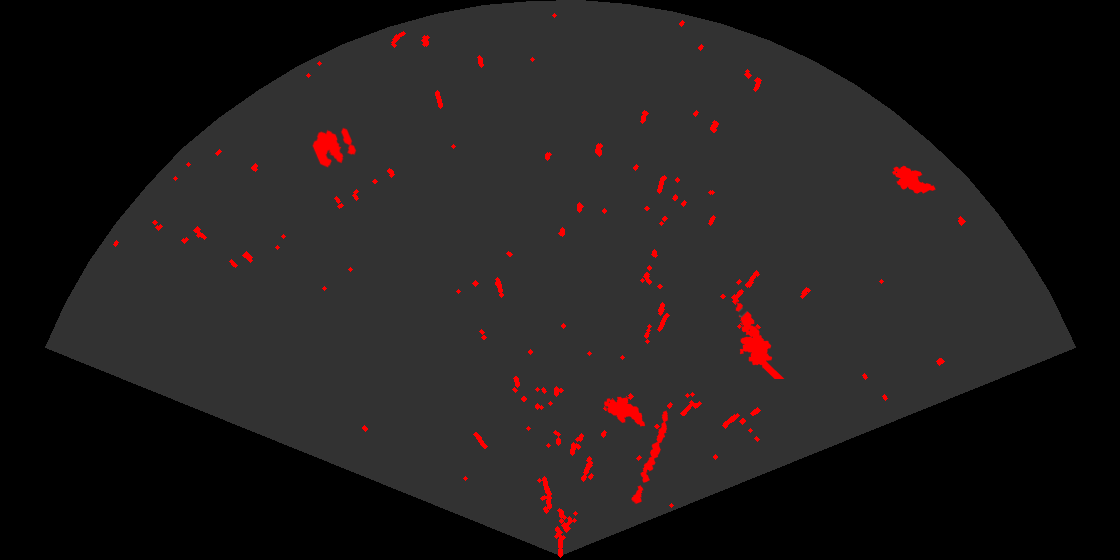AUV: (602, 395, 647, 428), (890, 164, 937, 195)
ball: (310, 126, 358, 169)
chain: (630, 409, 670, 506)
frogman: (734, 301, 786, 379)
